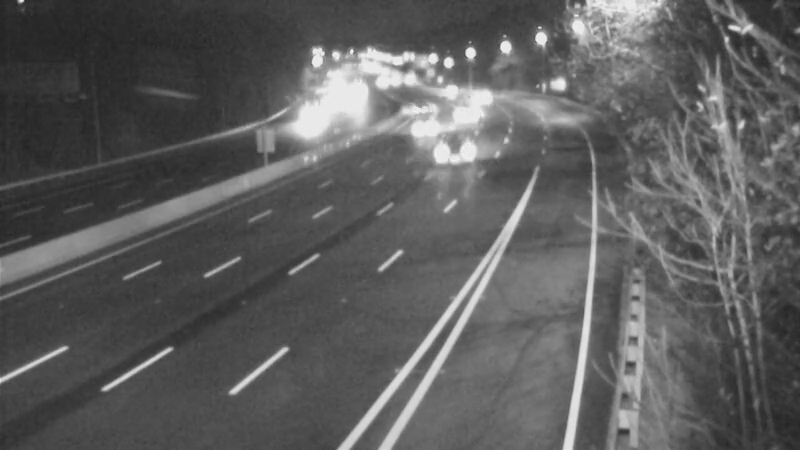vehicle: (420, 114, 500, 194), (453, 69, 503, 119), (385, 81, 435, 131), (431, 100, 481, 150), (395, 97, 445, 147), (285, 100, 335, 150)
